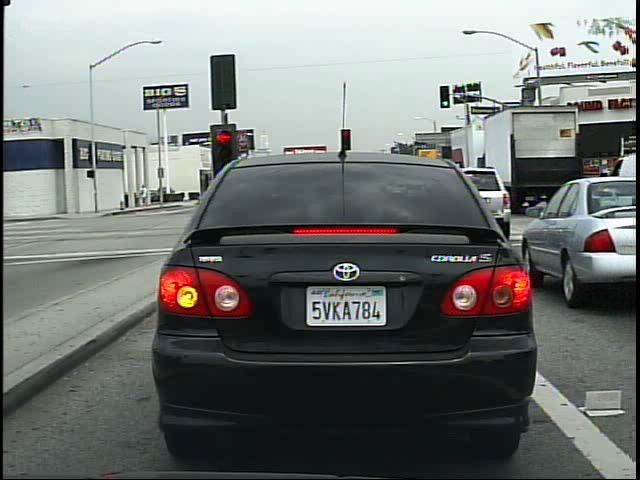person: (517, 169, 532, 202), (138, 182, 151, 211)
